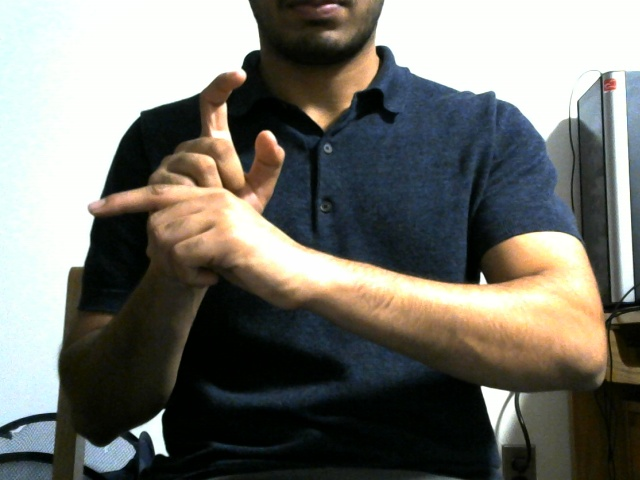call: (40, 47, 347, 323)
